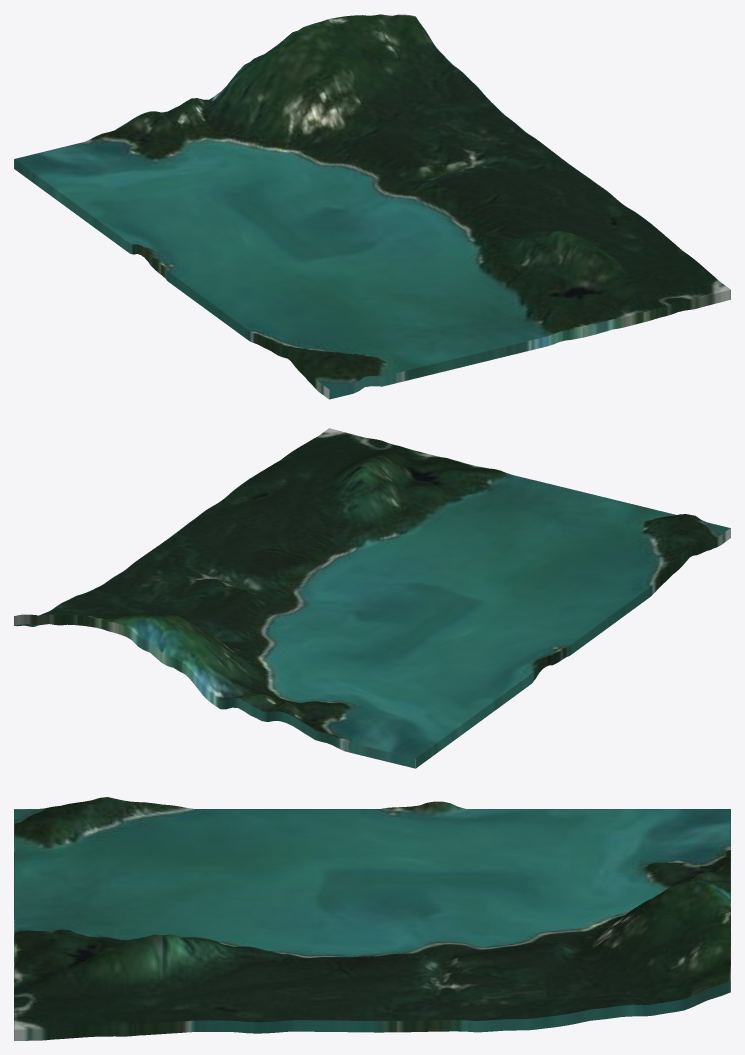
3 views of the same model, one above another, from view 1: azimuth 30°, elevation 25°; view 2: azimuth 150°, elevation 25°; view 3: azimuth 270°, elevation 25° (orthographic). The views are drawn at different scales.
Parts seen in each view (by area): view 1: tile; view 2: tile; view 3: tile.
Part boxes in pixels (x1,y1,x2,y2): tile: (14,14,730,399); tile: (14,428,730,768); tile: (14,797,730,1040).
Bounding box in the file's own units: 4050 × 742 × 5505.
1 material, 1 textured.
